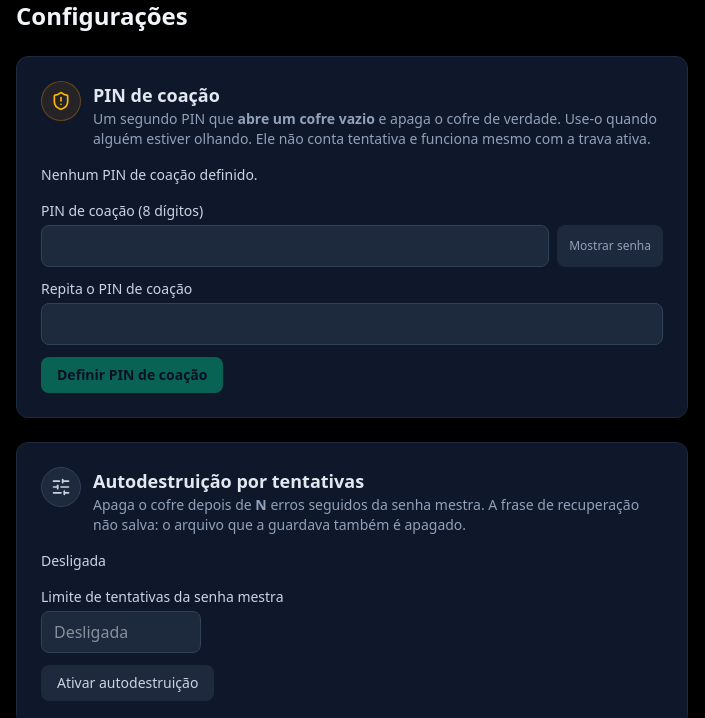
Configurações: autodestruição por tentativas › usa a mensagem padrão quando o cofre não diz o que deu errado
Click the button "Ativar autodestruição" at (128, 683), box [41,665,214,701]
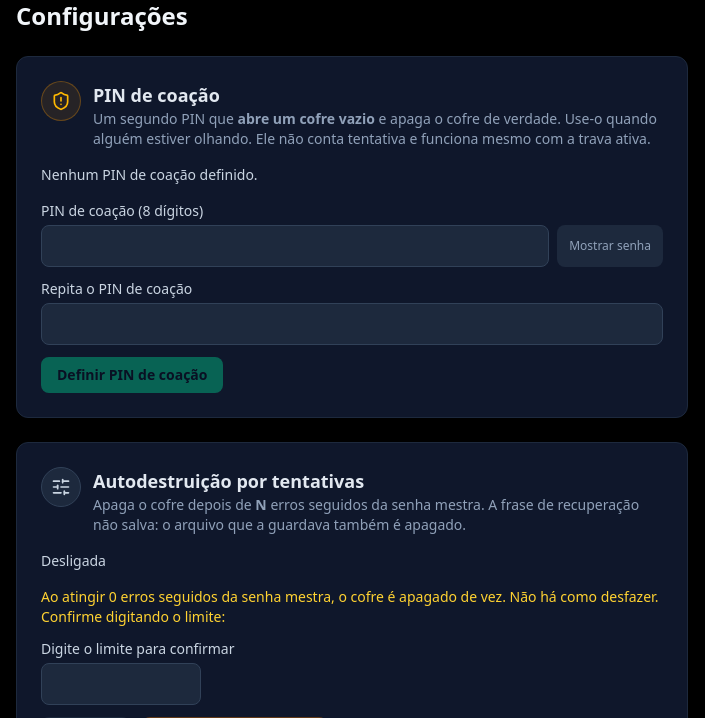
Type "10" into the field labelled "Digite o limite para confirmar" at (121, 684), box [41,663,201,705]
(page scrolled)
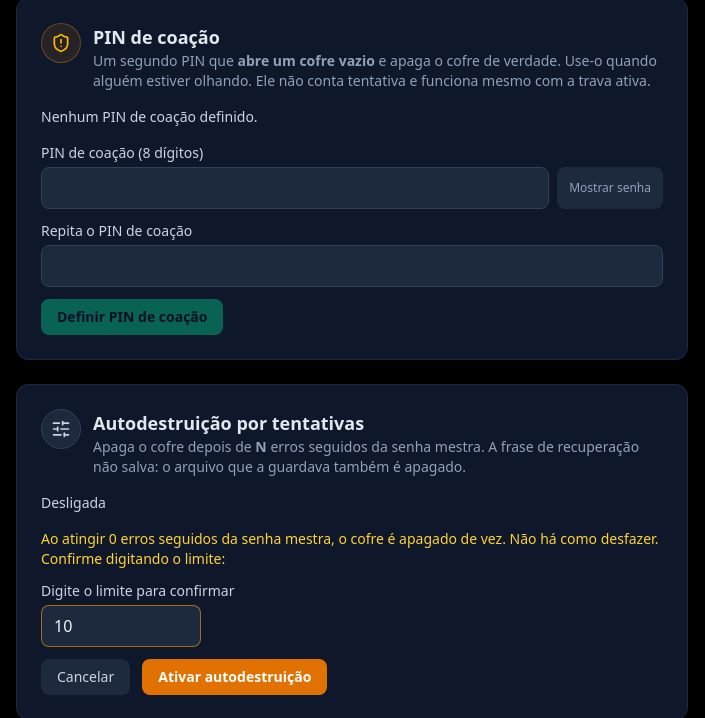
Click the button "Ativar autodestruição" at (235, 677), box [142,659,327,695]
(page scrolled)
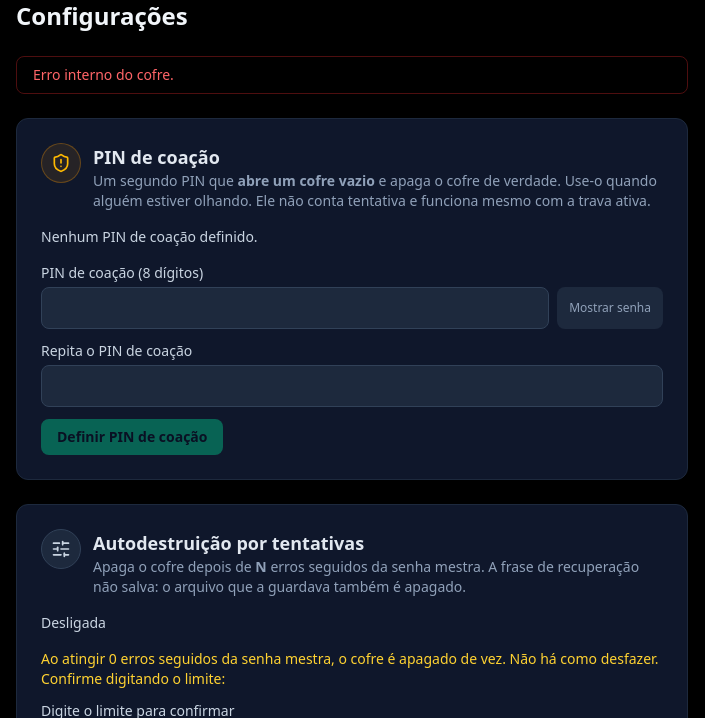
Expected: the text "Erro interno do cofre." is shown, [16,56,688,94]
